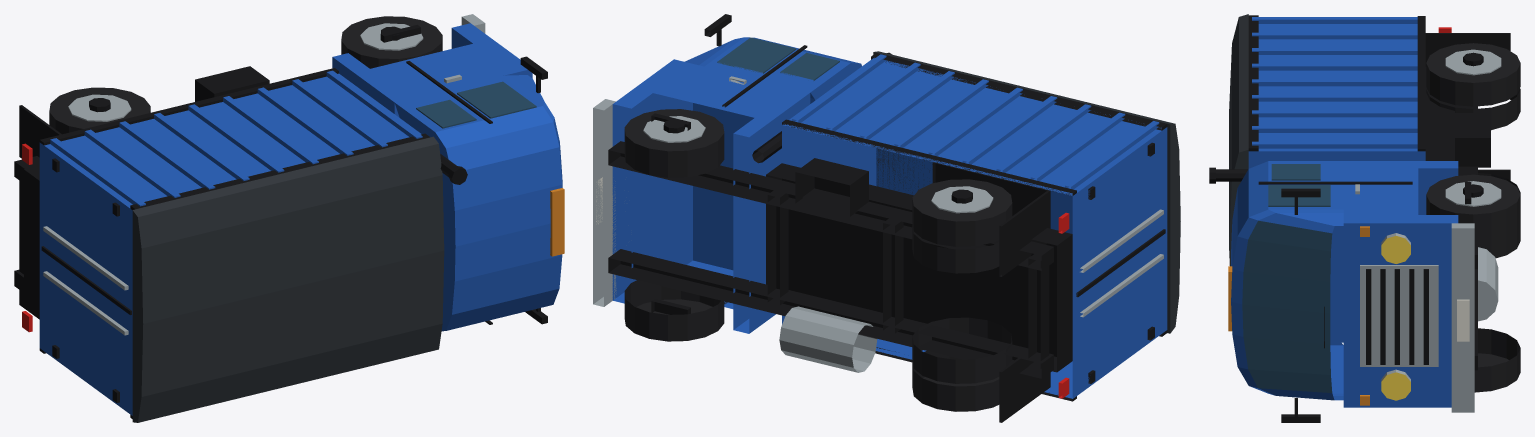
3 renders of one model, left to right at view 1: azimuth 30°, elevation 25°; view 2: azimuth 150°, elevation 25°; view 3: azimuth 270°, elevation 25°, orthographic. The views are drawn at different scales.
Visible parts, largest first — view 1: default_roof, default_body, default_cab_upper, default_cab_arch, default_front1, default_rear_out1, default_subframe, default_side1_-3.60_1.75_black, default_cab_back, default_side_window1, default_battery_box, default_side1_-3.60_4.30_black (+16 smaller); view 2: default_body, default_subframe, default_cab_arch, default_chassis-1, default_cab_front, default_cab_back, default_chassis1, default_front1, default_rear_out1, default_fuel_tank, default_front-1, default_bumper (+28 smaller); view 3: default_cab_upper, default_body, default_cab_front, default_grille, default_rear_out1, default_front1, default_bumper, default_cab_arch, default_roof, default_front-1, default_battery_box, default_subframe (+32 smaller).
Part boxes in pixels (x1,y1,x2,y2): default_roof: (132,136,444,422); default_body: (39,73,421,415); default_cab_upper: (394,75,562,331); default_cab_arch: (370,44,513,98); default_front1: (341,16,442,68); default_rear_out1: (49,87,150,134); default_subframe: (24,165,39,309); default_side1_-3.60_1.75_black: (39,68,338,145); default_cab_back: (332,53,409,117); default_side_window1: (457,81,536,118); default_battery_box: (195,66,269,101); default_side1_-3.60_4.30_black: (130,133,429,209); default_body: (782,57,1167,398); default_subframe: (766,163,1072,372); default_cab_arch: (653,64,794,308); default_chassis-1: (608,249,1053,378); default_cab_front: (612,59,692,303); default_cab_back: (733,89,810,333); default_chassis1: (608,141,1053,270); default_front1: (624,109,724,177); default_rear_out1: (912,179,1012,246); default_fuel_tank: (779,306,877,372); default_front-1: (624,280,724,341); default_bumper: (593,99,616,306); default_cab_upper: (1231,161,1343,400); default_body: (1248,24,1425,341); default_cab_front: (1343,215,1458,407); default_grille: (1360,265,1438,366); default_rear_out1: (1426,43,1520,106); default_front1: (1426,174,1520,239); default_bumper: (1451,223,1474,412); default_cab_arch: (1343,168,1418,214); default_roof: (1229,14,1248,266); default_front-1: (1474,328,1520,392); default_battery_box: (1455,113,1490,167); default_subframe: (1425,67,1454,160).
Bounding box in the file's own units: 7.56 × 3.9 × 4.75.
